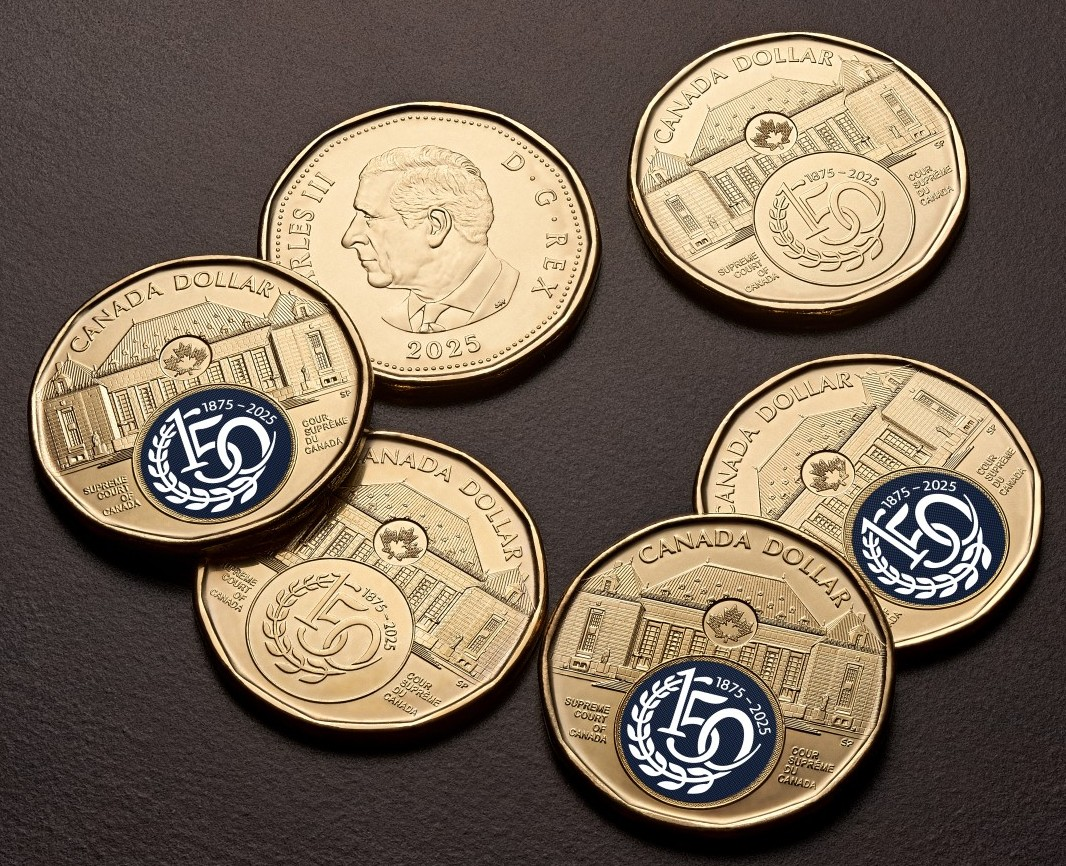coin: (541, 515, 891, 829), (197, 432, 544, 730), (696, 355, 1041, 645), (31, 256, 371, 546), (260, 103, 598, 386), (629, 33, 966, 312)
